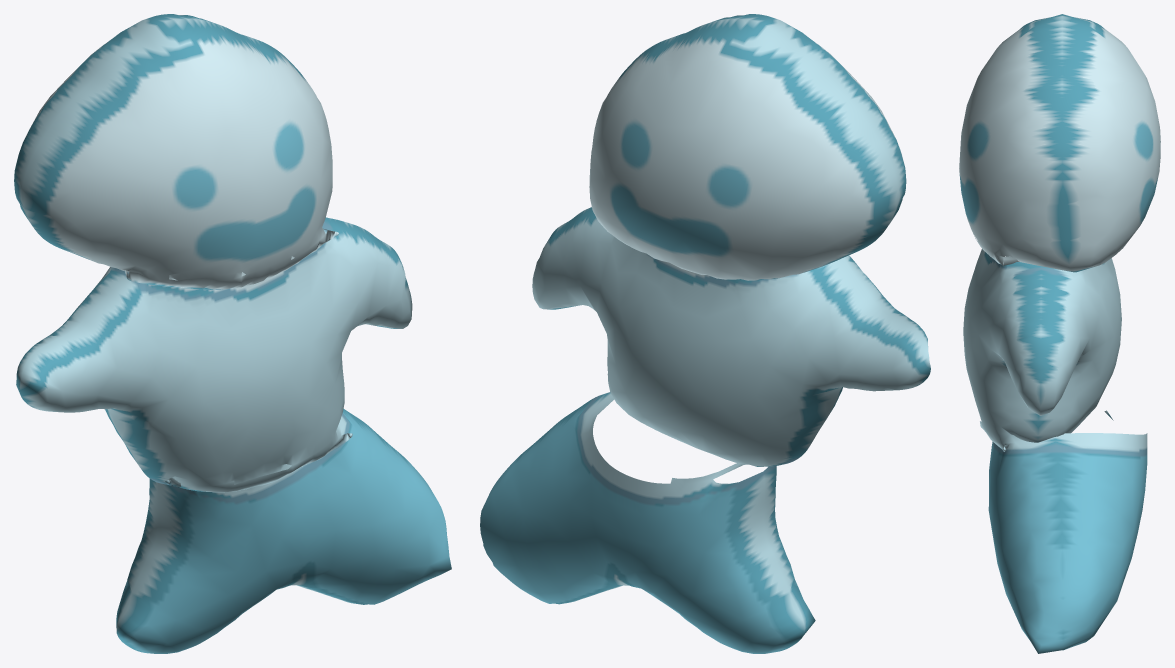
File: asset.glb
The picture shows the model from 3 angles, left to right: view 1: azimuth 30°, elevation 25°; view 2: azimuth 150°, elevation 25°; view 3: azimuth 270°, elevation 25°; orthographic projection. The views are drawn at different scales.
Size of the model in its own units: 1.77 by 2.47 by 0.8264.
1 material, 1 textured.
